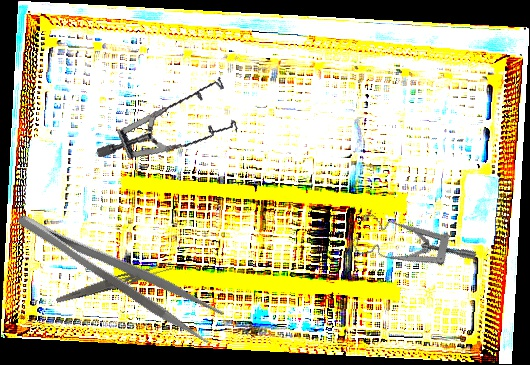Dressing Forceps: (13, 193, 227, 347), (54, 258, 175, 309)
Speculum: (95, 55, 248, 184), (344, 188, 479, 309)
